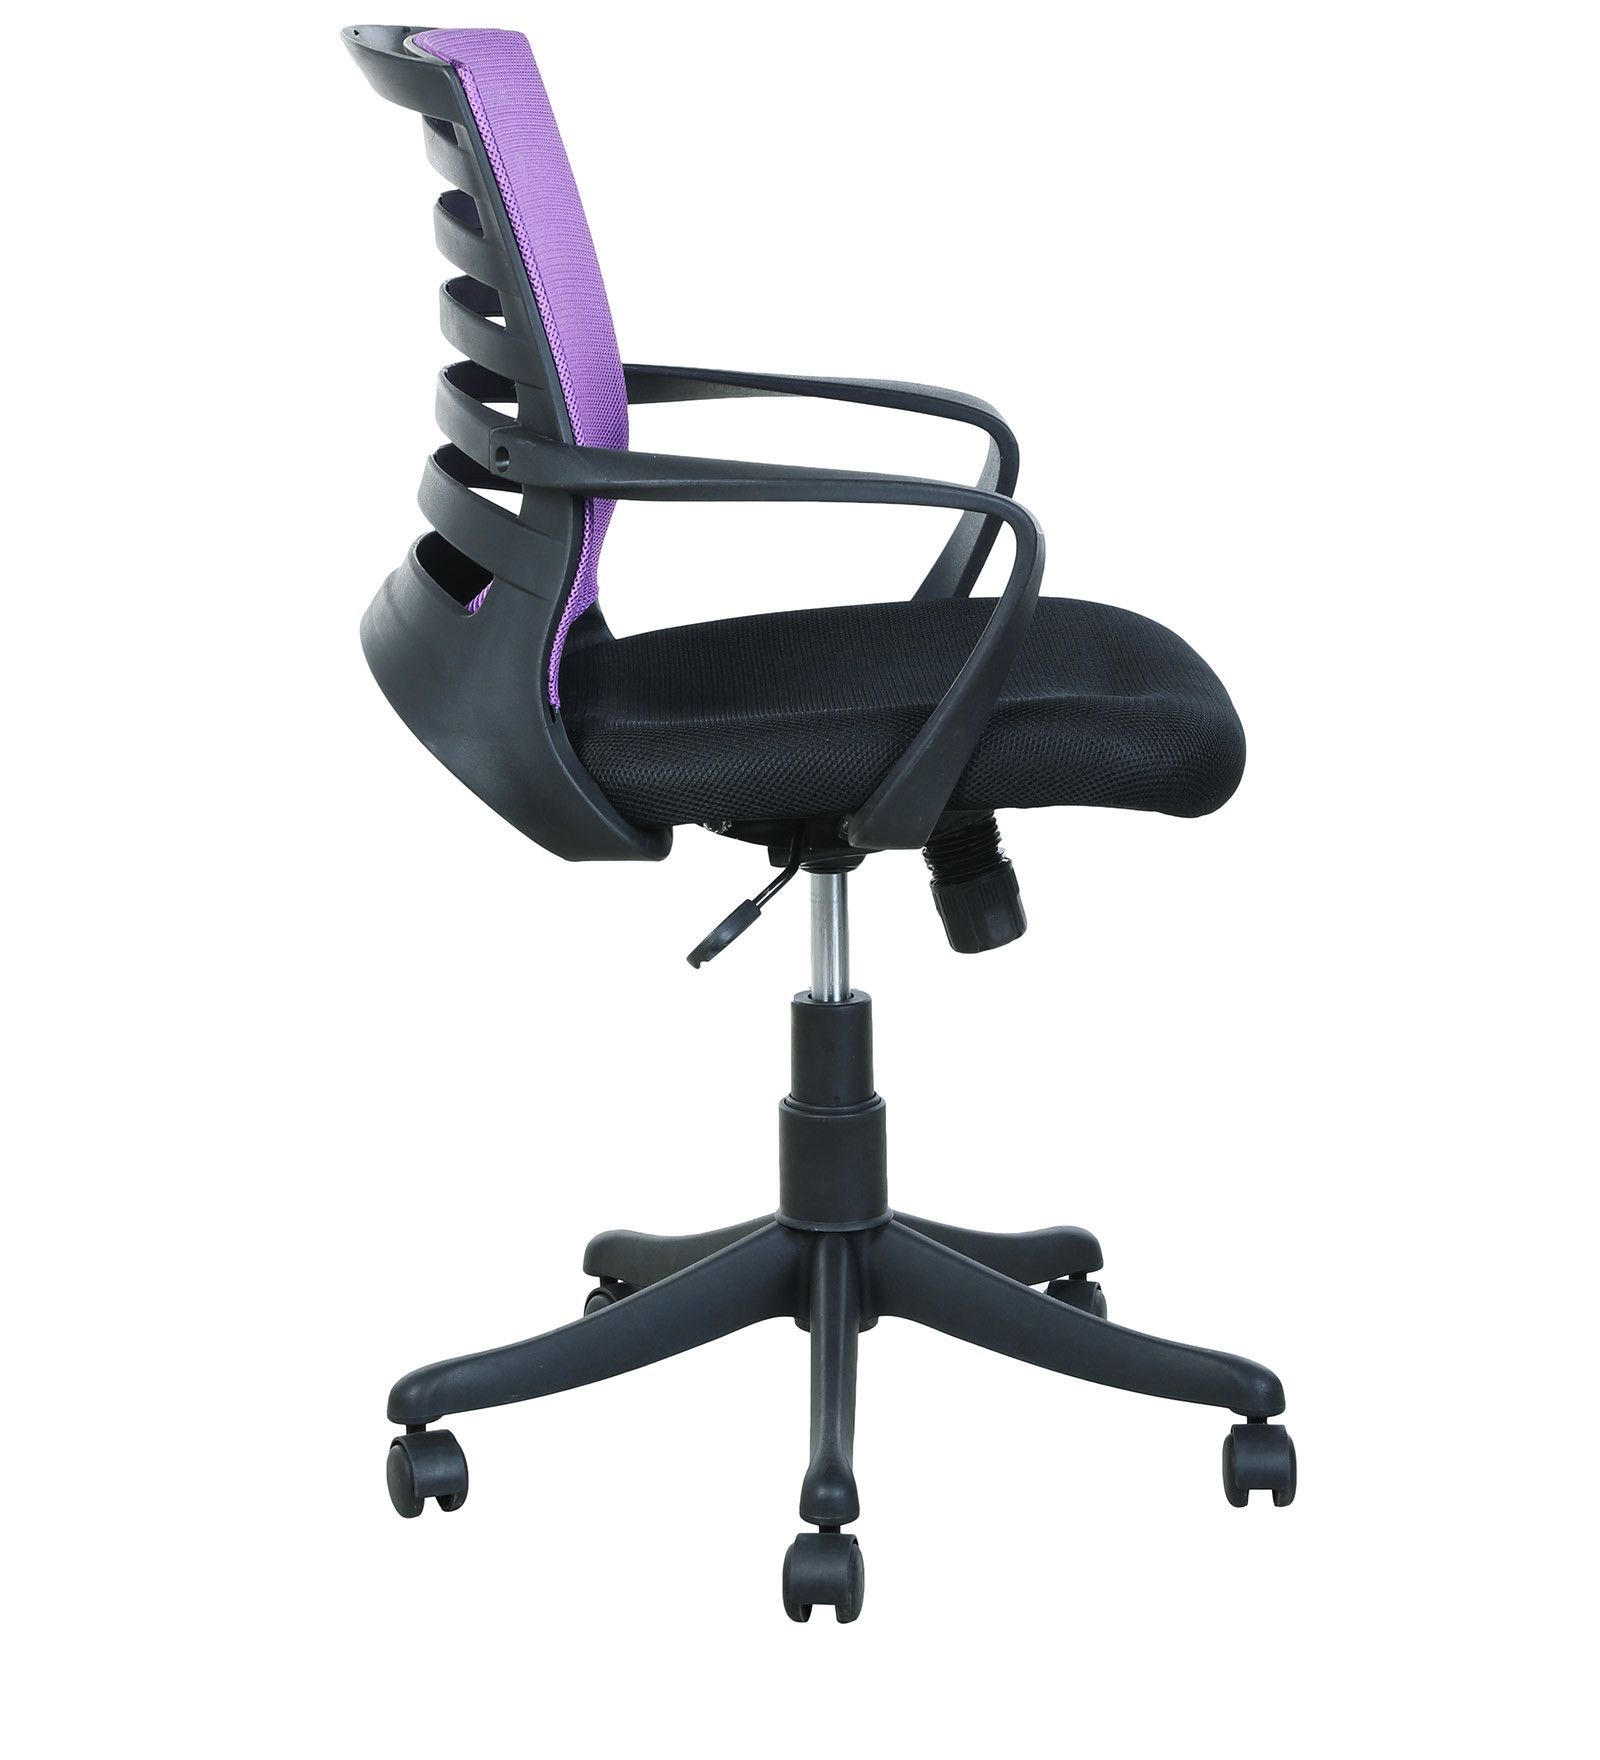Trendy Ergonomic Chair in Purple Colour by Parin: (251, 3, 1439, 1680)
